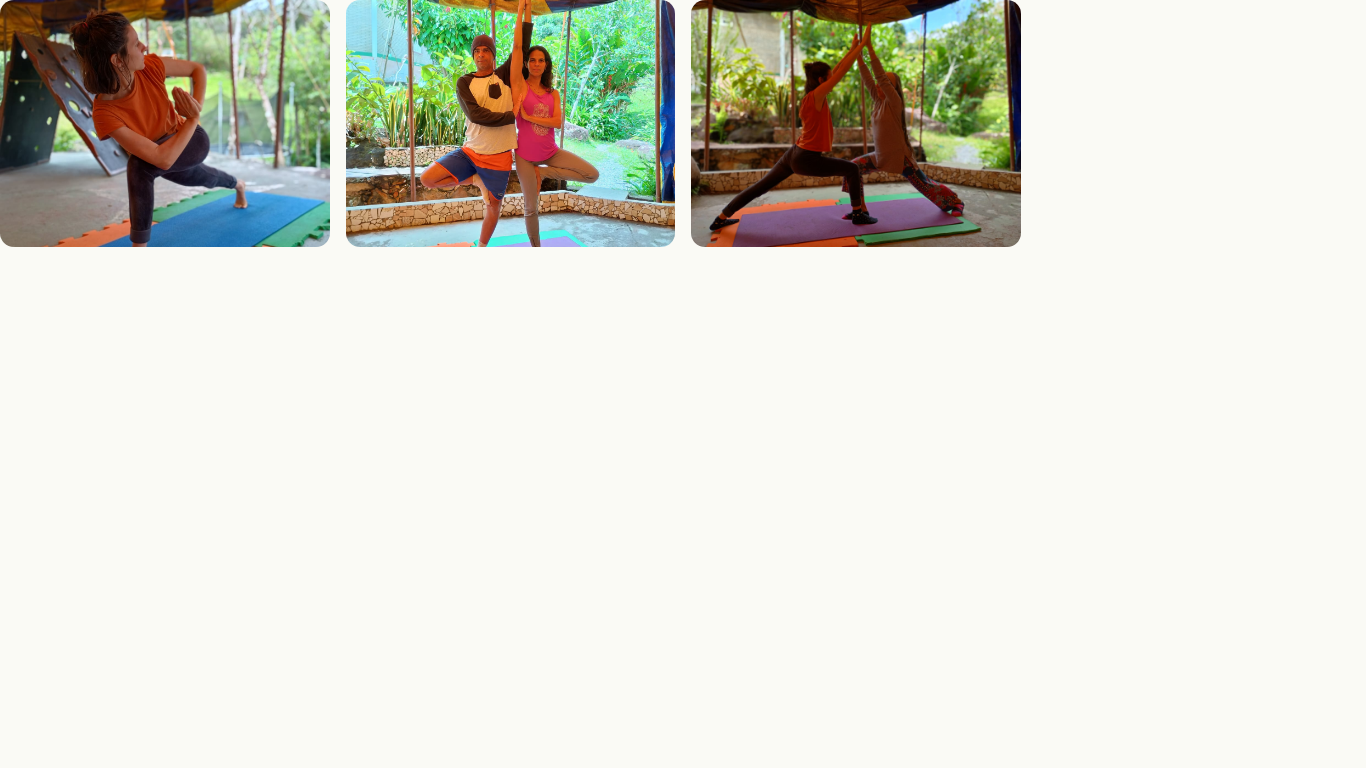
Galeria › setas do teclado e botões navegam, dando a volta
Click the button named "Ampliar foto 3 de 3: Duas praticantes em postura do guerreir": coordinates (856, 124) [691,0,1020,247]
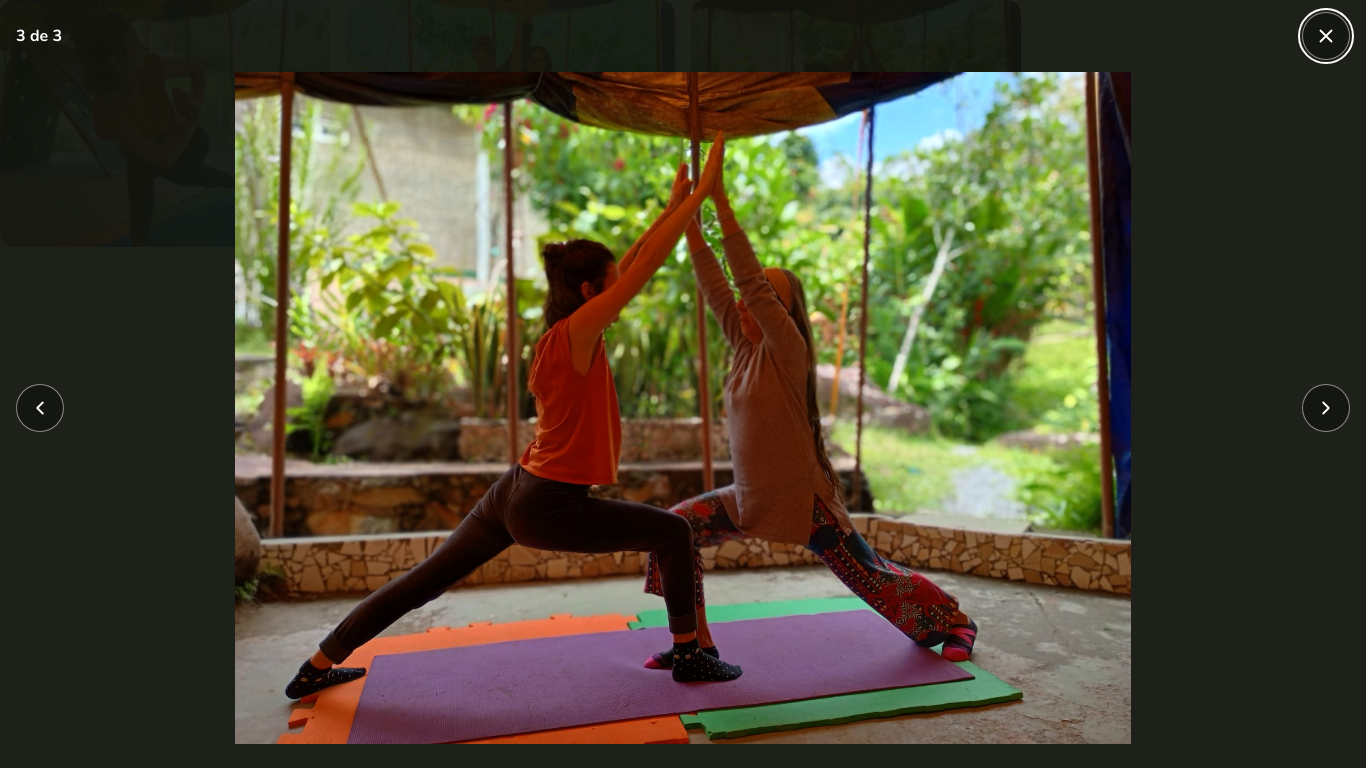
Press ArrowRight in the dialog named "Fotos de Aulas regulares de Yoga"
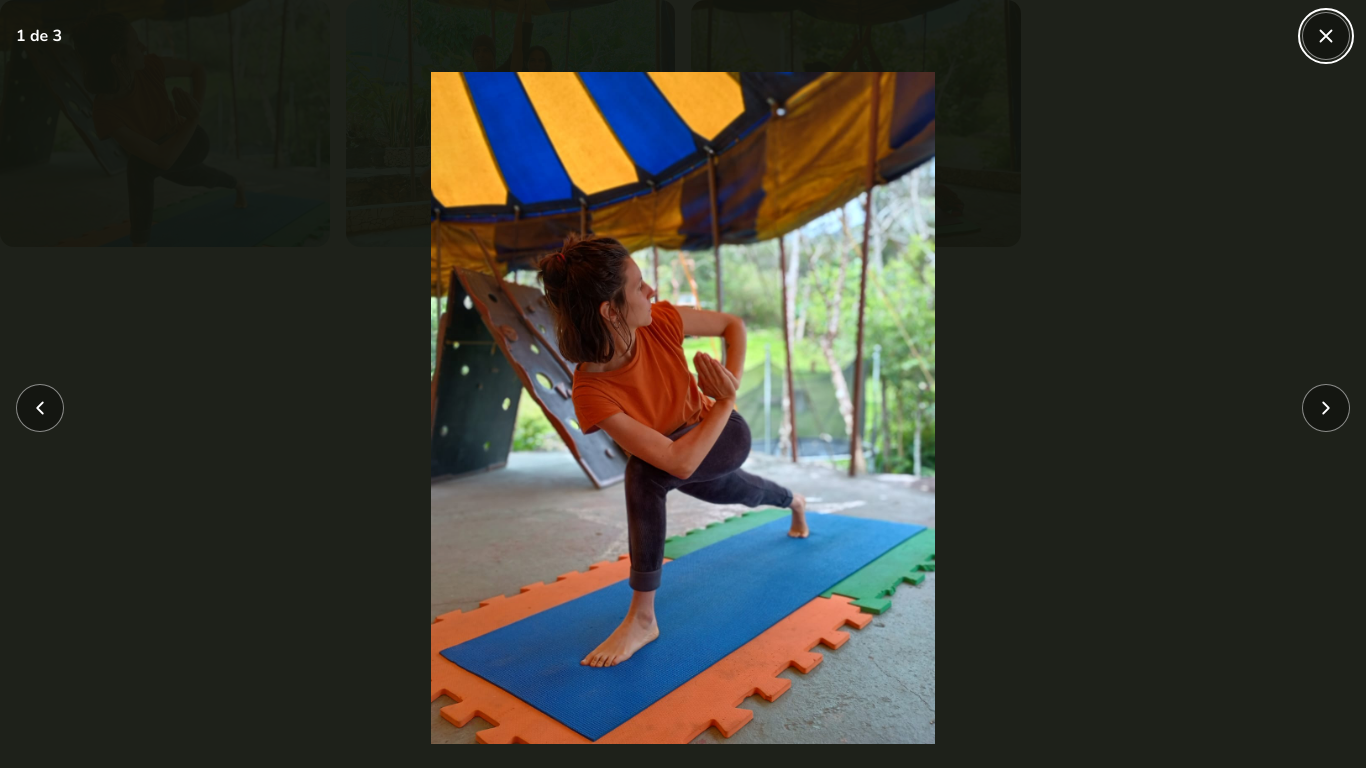
Result: the dialog named "Fotos de Aulas regulares de Yoga" reads "1 de 3"
Press ArrowLeft in the dialog named "Fotos de Aulas regulares de Yoga"
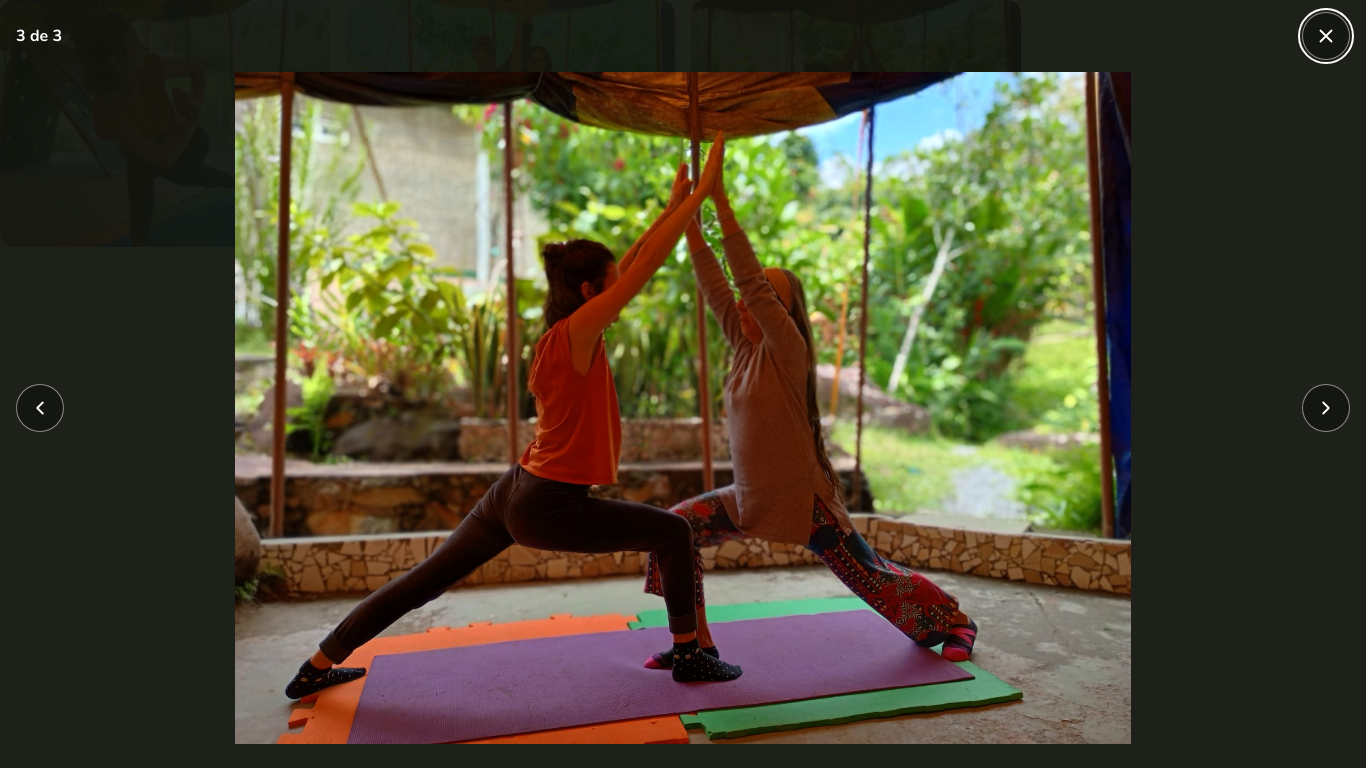
Result: the dialog named "Fotos de Aulas regulares de Yoga" reads "3 de 3"
Click the button named "Foto anterior": coordinates (40, 408) [16,384,64,432]
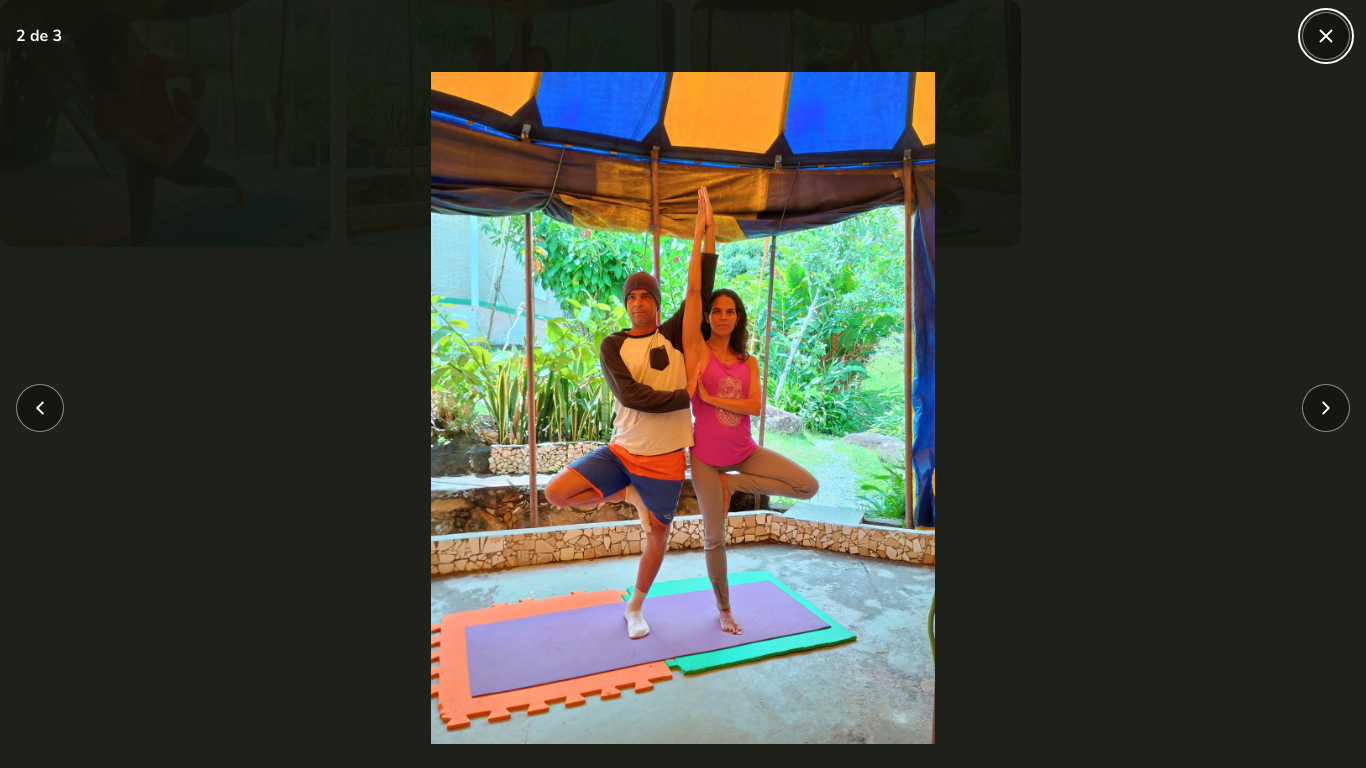
Result: the picture named "Dupla em postura da árvore, com as mãos unidas acima da cabeça" is shown
Click the button named "Próxima foto": coordinates (1326, 408) [1302,384,1350,432]
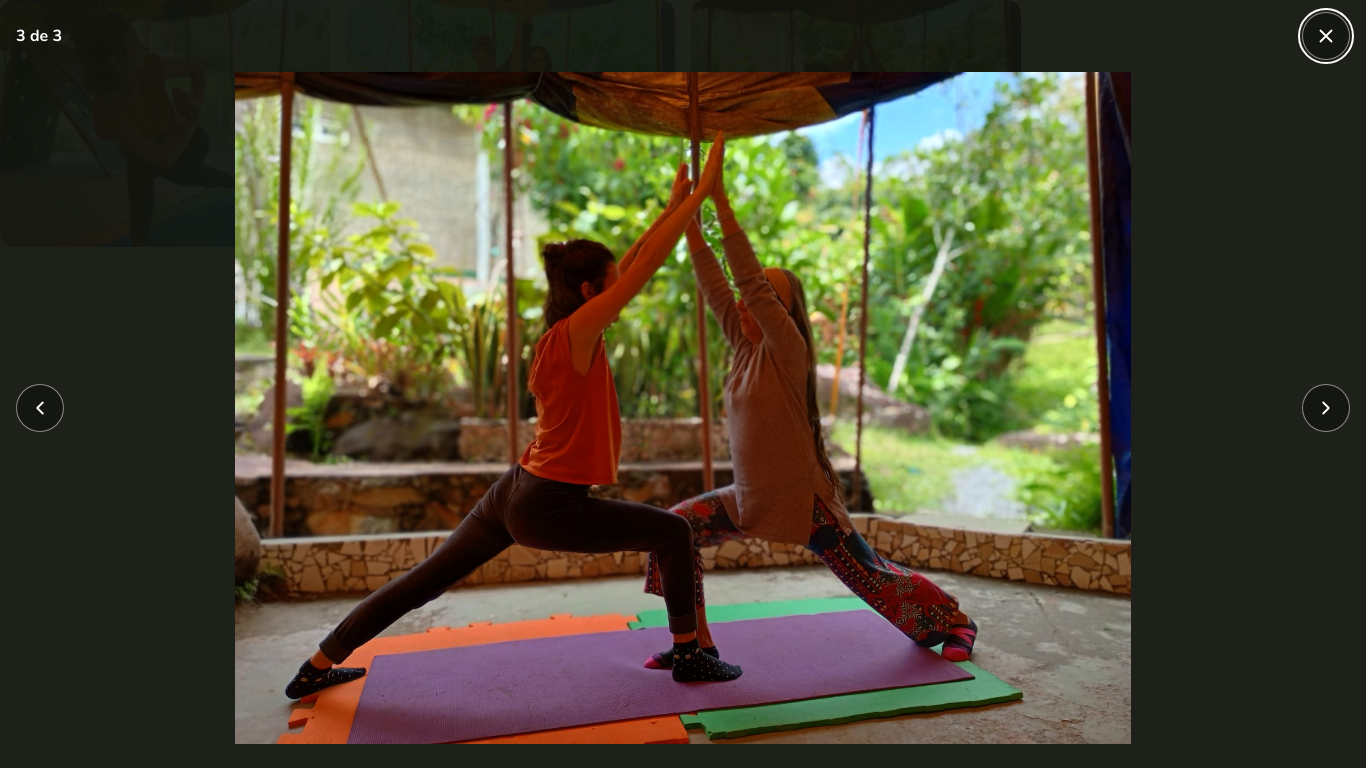
Result: the dialog named "Fotos de Aulas regulares de Yoga" reads "3 de 3"
